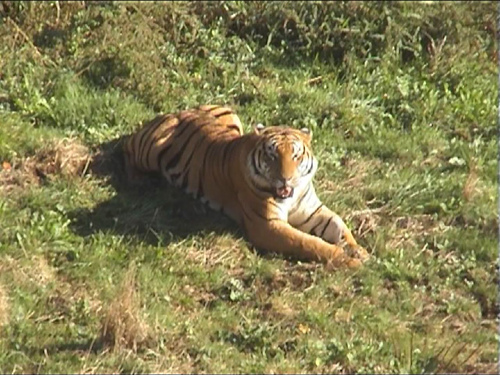Tigre: (115, 101, 363, 268)
